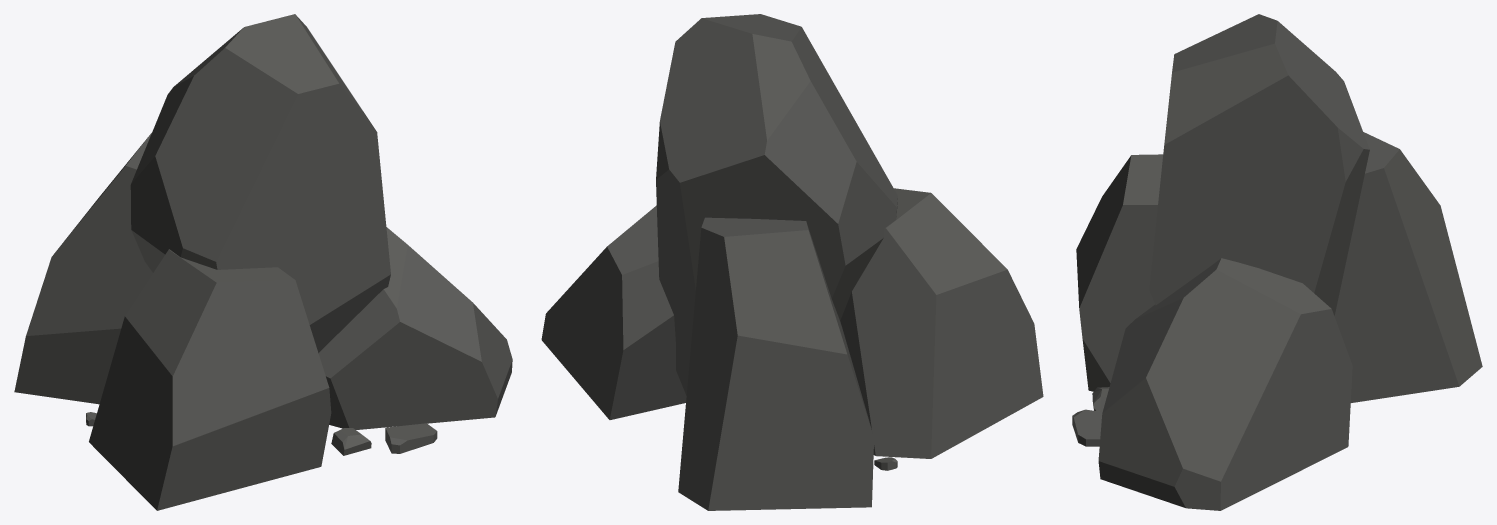
File: SM_Envr_Nature_Rock_Group_02.fbx
3 views of the same model, side by side, from view 1: azimuth 30°, elevation 25°; view 2: azimuth 150°, elevation 25°; view 3: azimuth 270°, elevation 25° (orthographic). The views are drawn at different scales.
Visible parts, largest first — view 1: SM_Envr_Nature_Rock_Group_02; view 2: SM_Envr_Nature_Rock_Group_02; view 3: SM_Envr_Nature_Rock_Group_02.
Part boxes in pixels (x1,y1,x2,y2): SM_Envr_Nature_Rock_Group_02: (14, 14, 512, 510); SM_Envr_Nature_Rock_Group_02: (541, 14, 1043, 510); SM_Envr_Nature_Rock_Group_02: (1072, 14, 1482, 510).
Size of the model in its own units: 347 by 301 by 294.
